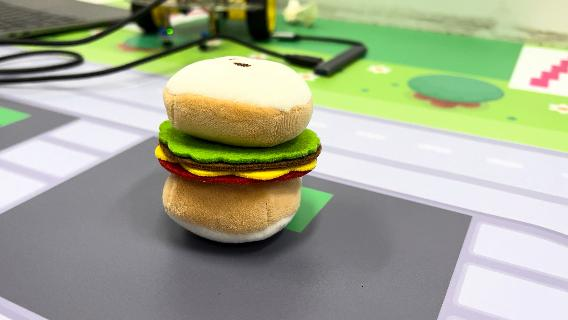sandwich: (154, 54, 324, 245)
